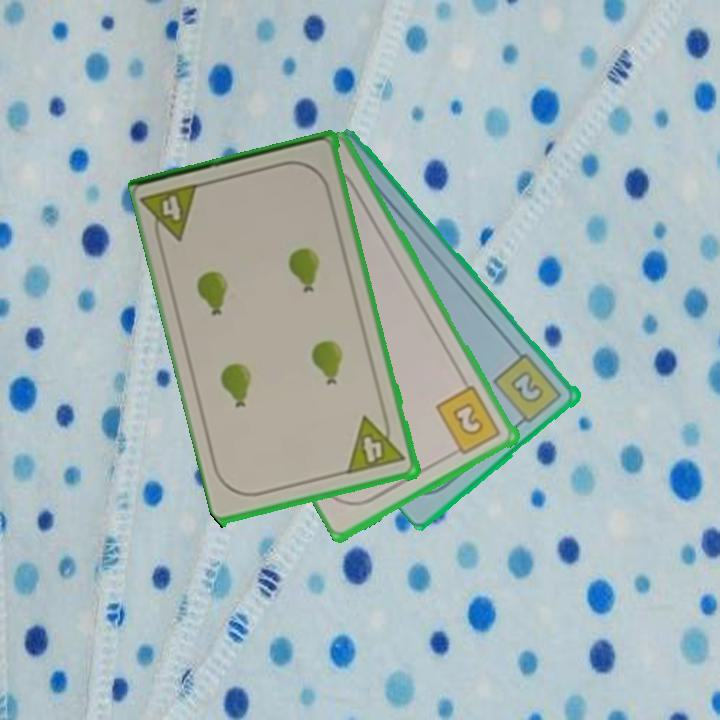2b: (490, 350, 566, 430), (433, 382, 504, 460)
4p: (140, 180, 205, 249), (344, 410, 409, 477)
